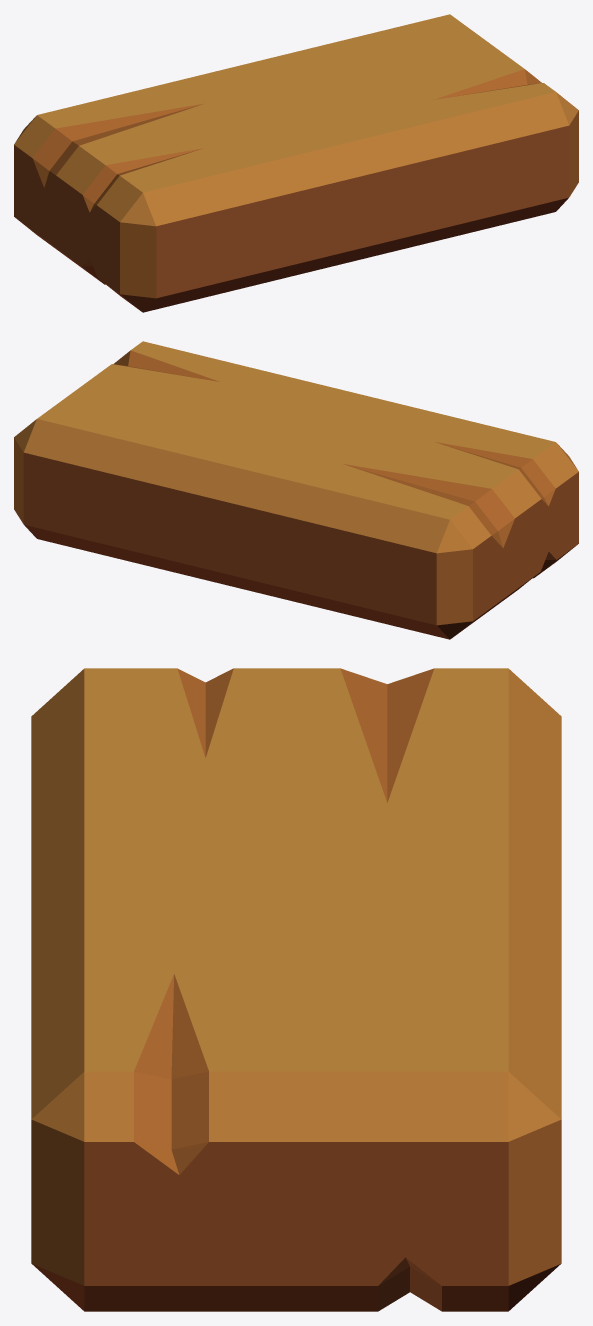
The model's file is m_kub_wood_flatBrick.FBX.
The picture shows the model from 3 angles, top to bottom: view 1: azimuth 30°, elevation 25°; view 2: azimuth 150°, elevation 25°; view 3: azimuth 270°, elevation 25°; orthographic projection. The views are drawn at different scales.
Visible parts, largest first — view 1: m_kub_wood_flatBrick; view 2: m_kub_wood_flatBrick; view 3: m_kub_wood_flatBrick.
Boxes of the visible parts, left/top/right/bottom form: m_kub_wood_flatBrick: left=14, top=14, right=578, bottom=312; m_kub_wood_flatBrick: left=14, top=341, right=578, bottom=639; m_kub_wood_flatBrick: left=31, top=668, right=561, bottom=1311.
Bounding box in the file's own units: 2 × 0.5 × 1.
